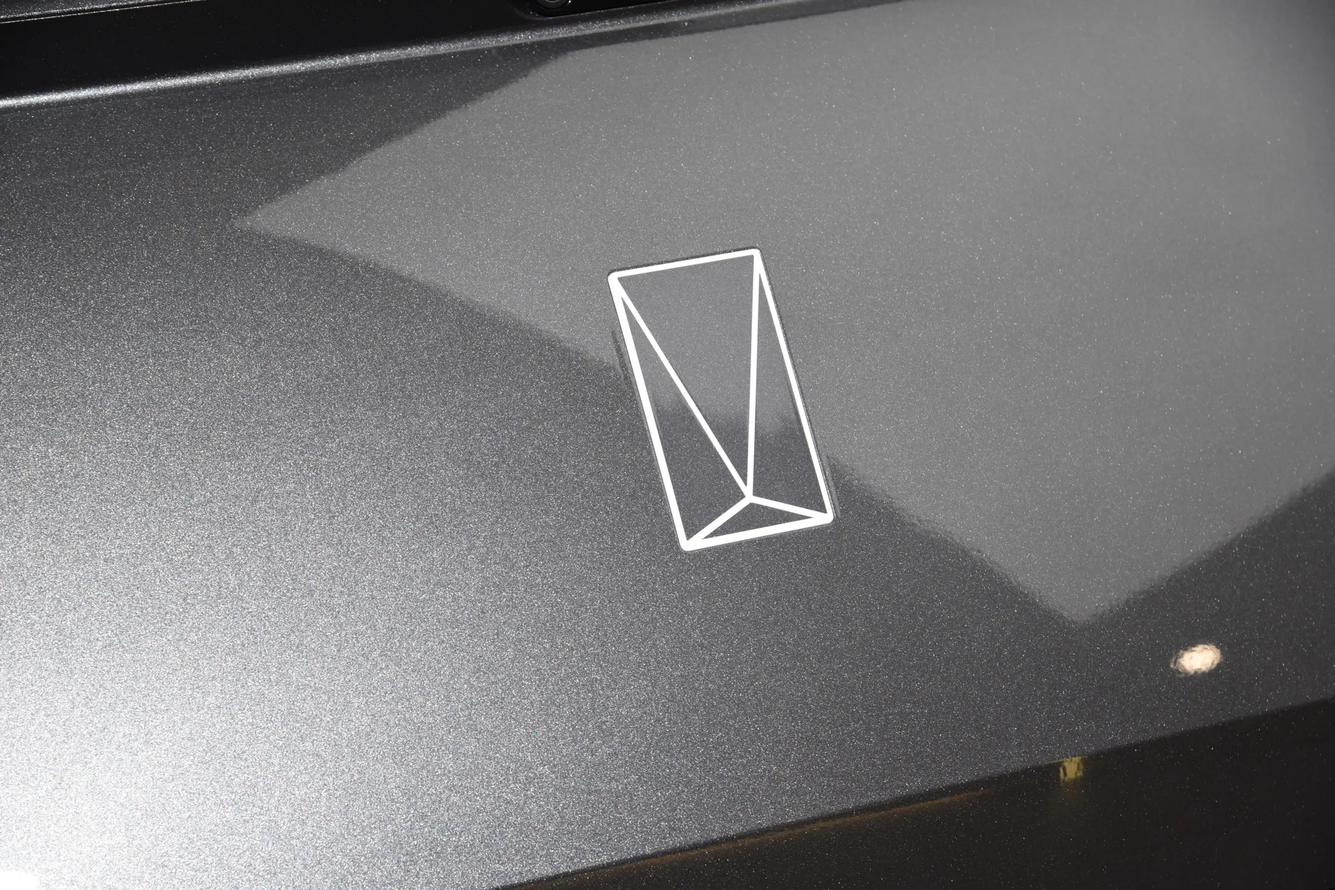AVATR: (608, 249, 834, 551)
